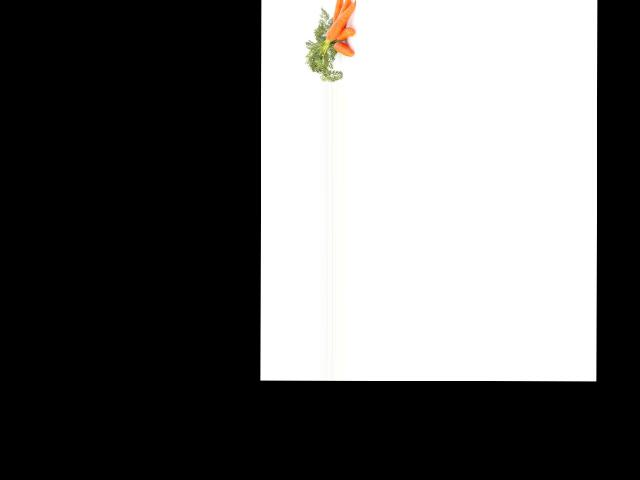carrot: (323, 1, 358, 47)
